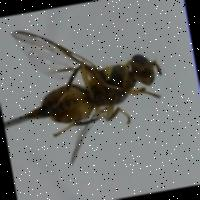Oriental-fruit-fly: (8, 9, 178, 160)
